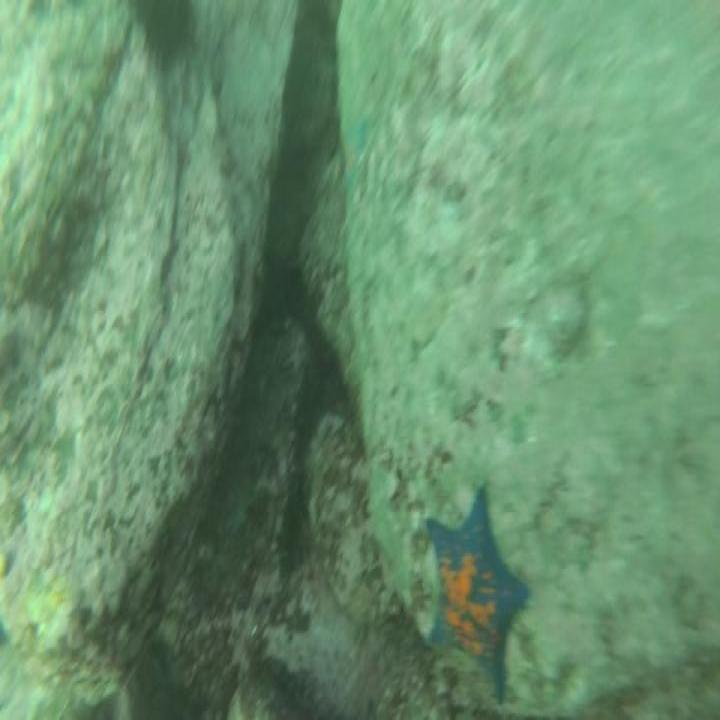echinus: (124, 0, 201, 75)
starfish: (418, 476, 533, 706)
